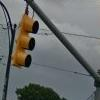traffic lights: (11, 14, 39, 70)
